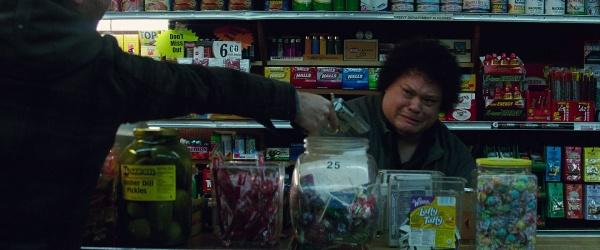Gun: (321, 98, 373, 138)
